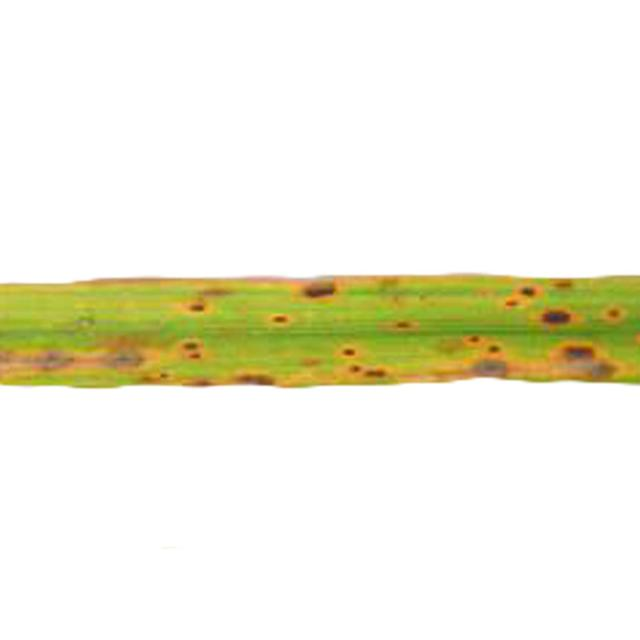Brown spot: (1, 215, 640, 437)
